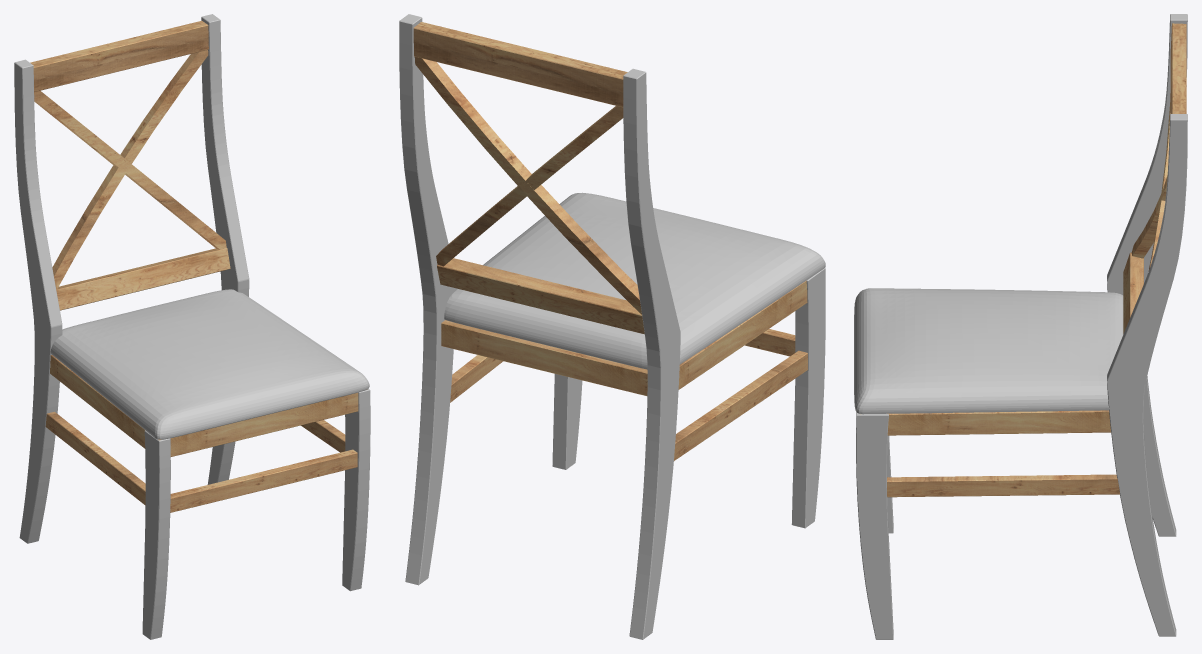
Rendered from chair.obj.
3 renders of one model, left to right at view 1: azimuth 30°, elevation 25°; view 2: azimuth 150°, elevation 25°; view 3: azimuth 270°, elevation 25°, orthographic. The views are drawn at different scales.
Parts seen in each view (by area): view 1: Box14, Line06, Rectangle04, Line07, Rectangle03, Rectangle02, Line09, Line08, Rectangle05, Box15, Box16; view 2: Box14, Line06, Line07, Rectangle03, Rectangle02, Line09, Rectangle05, Box15, Rectangle04, Box16, Line08; view 3: Box14, Line07, Line08, Line06, Rectangle03, Rectangle04, Rectangle02, Rectangle05, Box15, Box16.
Boxes of the visible parts, box(x1,y1,x2,y2) form: Box14: box(50, 289, 369, 439); Line06: box(14, 59, 62, 543); Rectangle04: box(45, 411, 357, 512); Line07: box(201, 14, 249, 484); Rectangle03: box(50, 355, 358, 456); Rectangle02: box(30, 20, 208, 91); Line09: box(142, 430, 170, 639); Line08: box(342, 389, 370, 591); Rectangle05: box(56, 248, 230, 310); Box15: box(52, 50, 208, 289); Box16: box(34, 90, 226, 249); Box14: box(444, 192, 825, 369); Line06: box(623, 68, 680, 639); Line07: box(399, 14, 456, 585); Rectangle03: box(441, 280, 807, 395); Rectangle02: box(413, 22, 627, 107); Line09: box(791, 268, 825, 528); Rectangle05: box(437, 258, 644, 334); Box15: box(414, 57, 641, 314); Rectangle04: box(450, 329, 807, 460); Box16: box(436, 106, 623, 266); Line08: box(552, 374, 582, 469); Box14: box(854, 288, 1123, 414); Line07: box(1107, 114, 1187, 636); Line08: box(856, 412, 893, 639); Line06: box(1107, 14, 1187, 536); Rectangle03: box(860, 410, 1111, 435); Rectangle04: box(887, 474, 1119, 497); Rectangle02: box(1170, 23, 1186, 113); Rectangle05: box(1123, 252, 1143, 333); Box15: box(1131, 175, 1167, 258); Box16: box(1148, 93, 1170, 271).
Bounding box in the file's own units: 457 × 965 × 565.
